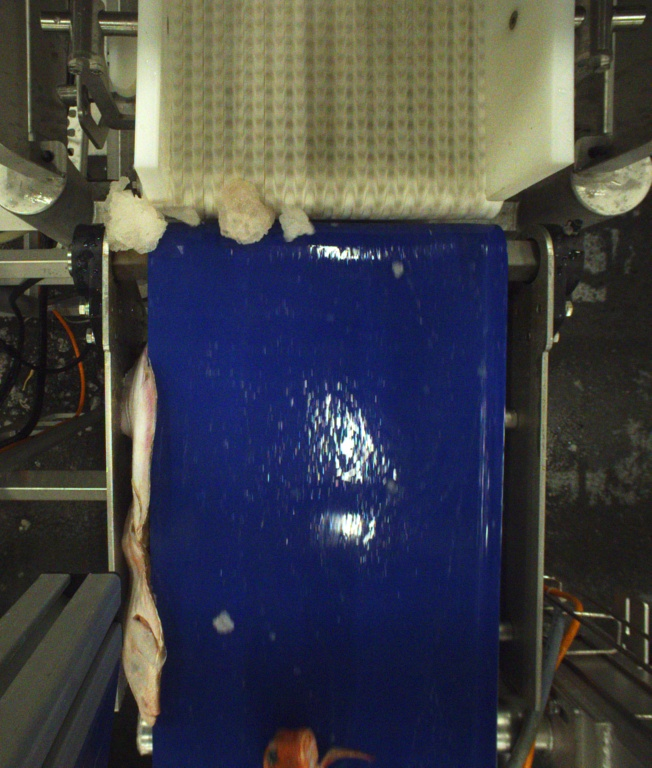GUU: (255, 723, 370, 767)
